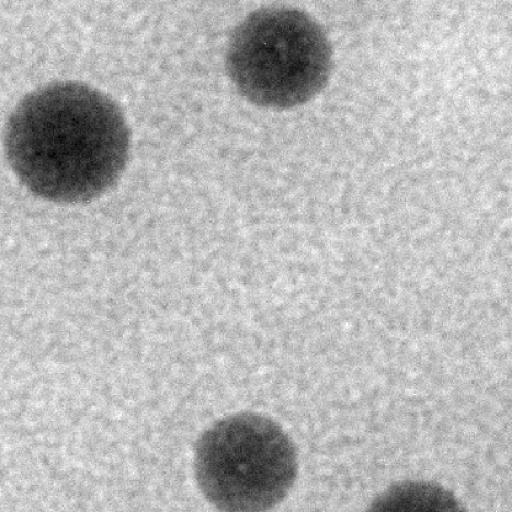Nanoparticles: (4, 76, 128, 206), (190, 409, 302, 512), (223, 5, 329, 111), (368, 477, 463, 512)
